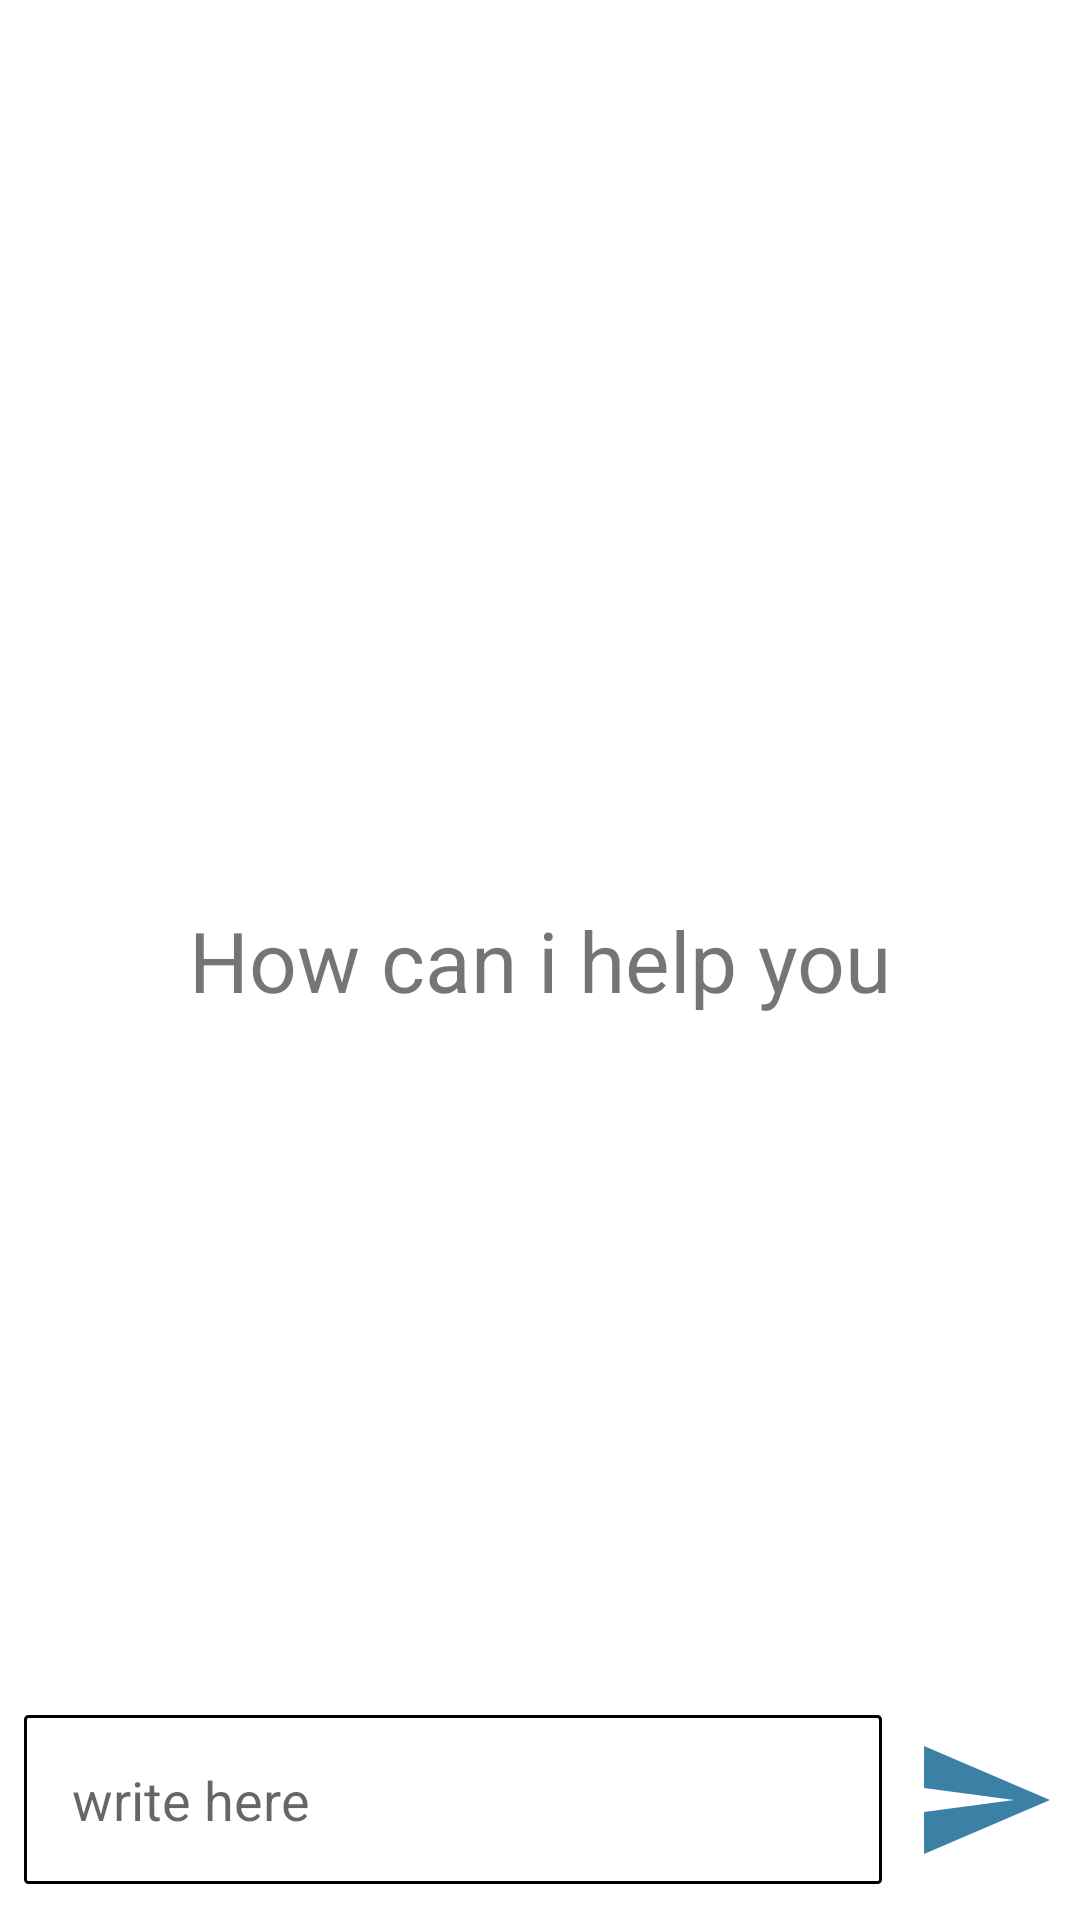

Locate icon controls on the screen. Image size 1080*1920, boxes as (x1, y1, x2, y2).
send: (924, 1746, 1050, 1854)
